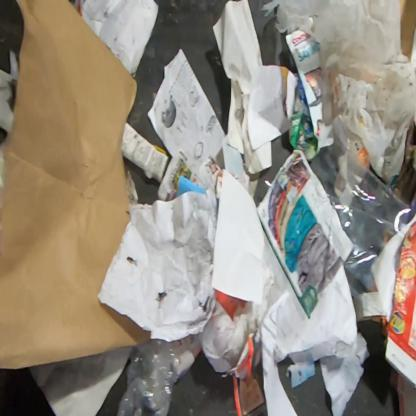cardboard: (0, 0, 151, 371), (398, 0, 415, 63)
soft_plastic: (260, 0, 415, 188), (308, 114, 416, 298), (113, 339, 181, 416)
